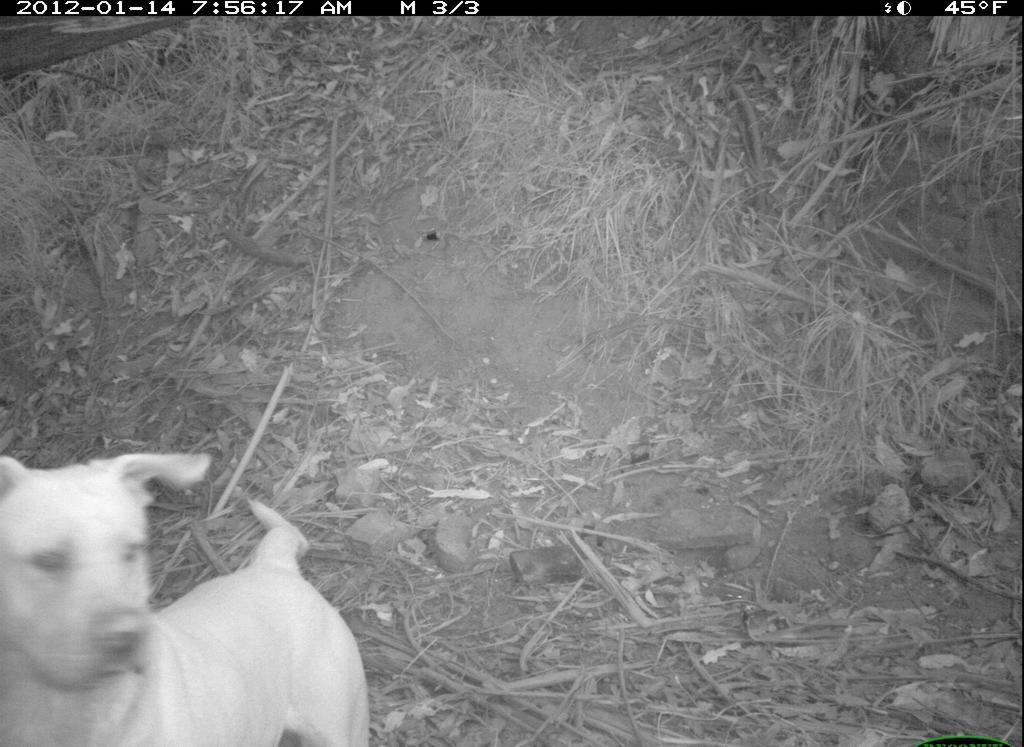dog: (1, 446, 386, 747)
